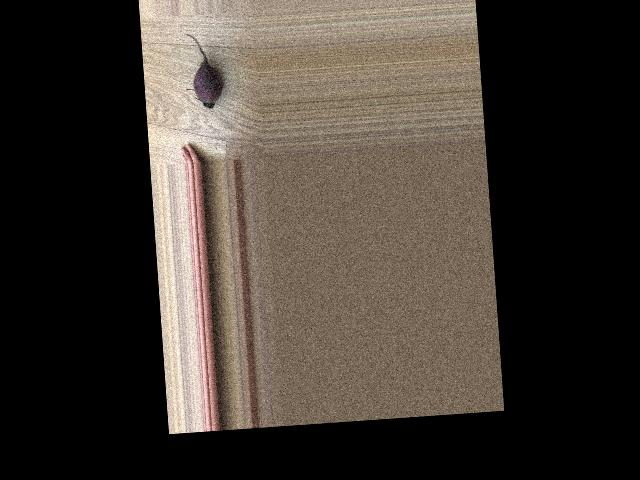beet: (182, 31, 223, 109)
